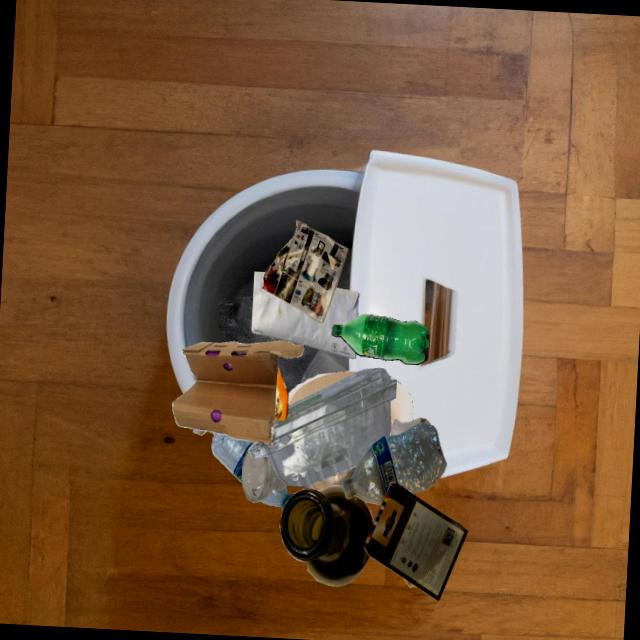biowaste: (275, 365, 288, 420)
cardboard: (173, 341, 304, 447), (363, 483, 468, 601), (402, 577, 417, 587)
combustible waste: (304, 380, 393, 488)
glass: (280, 485, 374, 587), (242, 450, 288, 503), (391, 418, 431, 436)
paper: (251, 272, 360, 359), (262, 220, 349, 323), (193, 429, 207, 436)
plastic: (247, 368, 397, 487), (343, 423, 447, 505), (332, 314, 430, 365), (211, 433, 254, 484), (310, 466, 356, 490), (260, 488, 293, 510)
